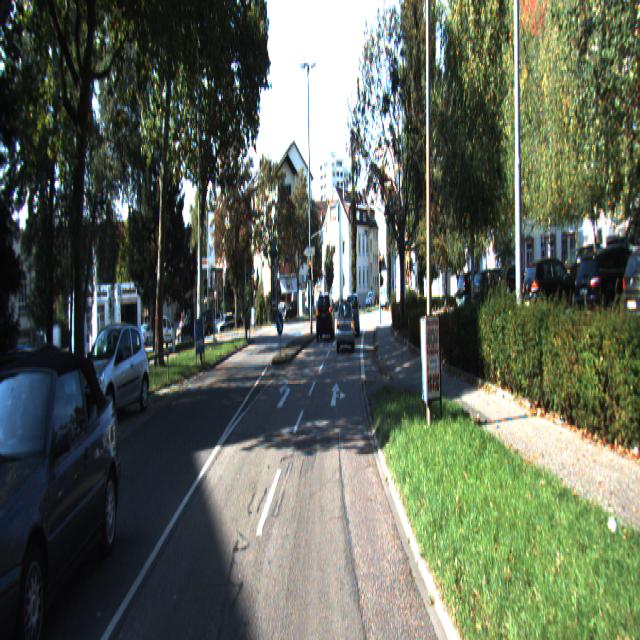Car: (0, 350, 126, 638), (0, 339, 86, 508), (74, 324, 152, 429), (454, 267, 494, 317), (317, 294, 335, 342), (337, 302, 354, 352), (345, 294, 360, 337)
